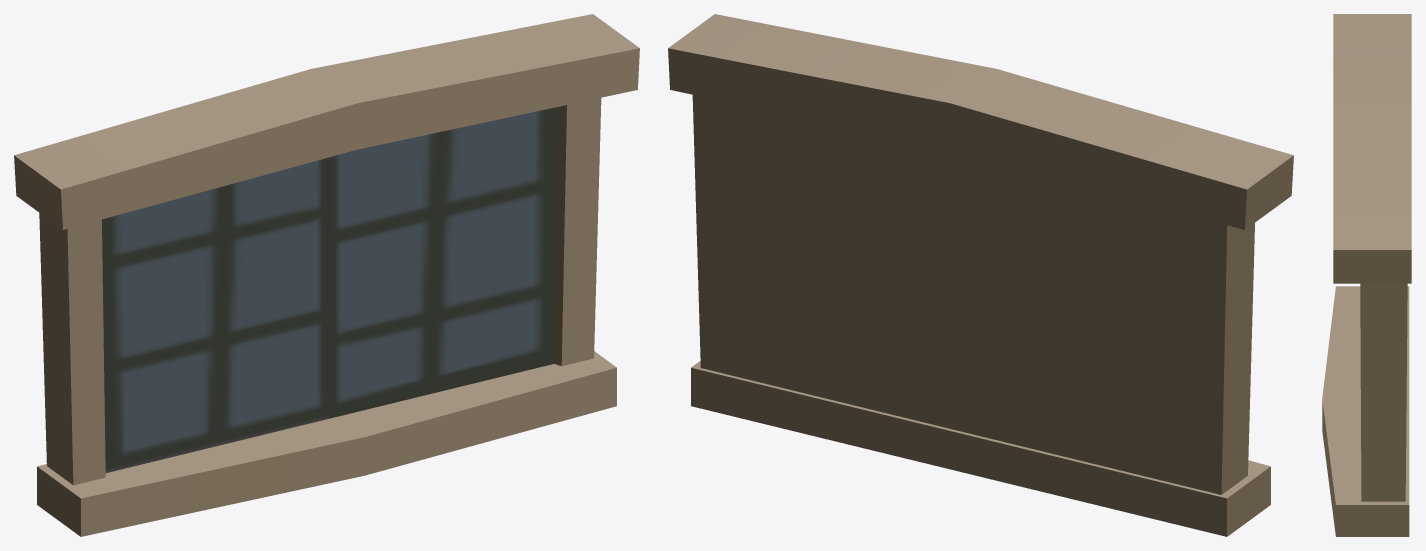
File: Window_B05.fbx
3 views of the same model, side by side, from view 1: azimuth 30°, elevation 25°; view 2: azimuth 150°, elevation 25°; view 3: azimuth 270°, elevation 25° (orthographic). The views are drawn at different scales.
Parts seen in each view (by area): view 1: Window_B05; view 2: Window_B05; view 3: Window_B05.
Boxes of the visible parts, bbox=[...] form: Window_B05: bbox=[14, 14, 639, 536]; Window_B05: bbox=[668, 14, 1293, 536]; Window_B05: bbox=[1322, 14, 1411, 536].
Bounding box in the file's own units: 321 × 195 × 51.42.
